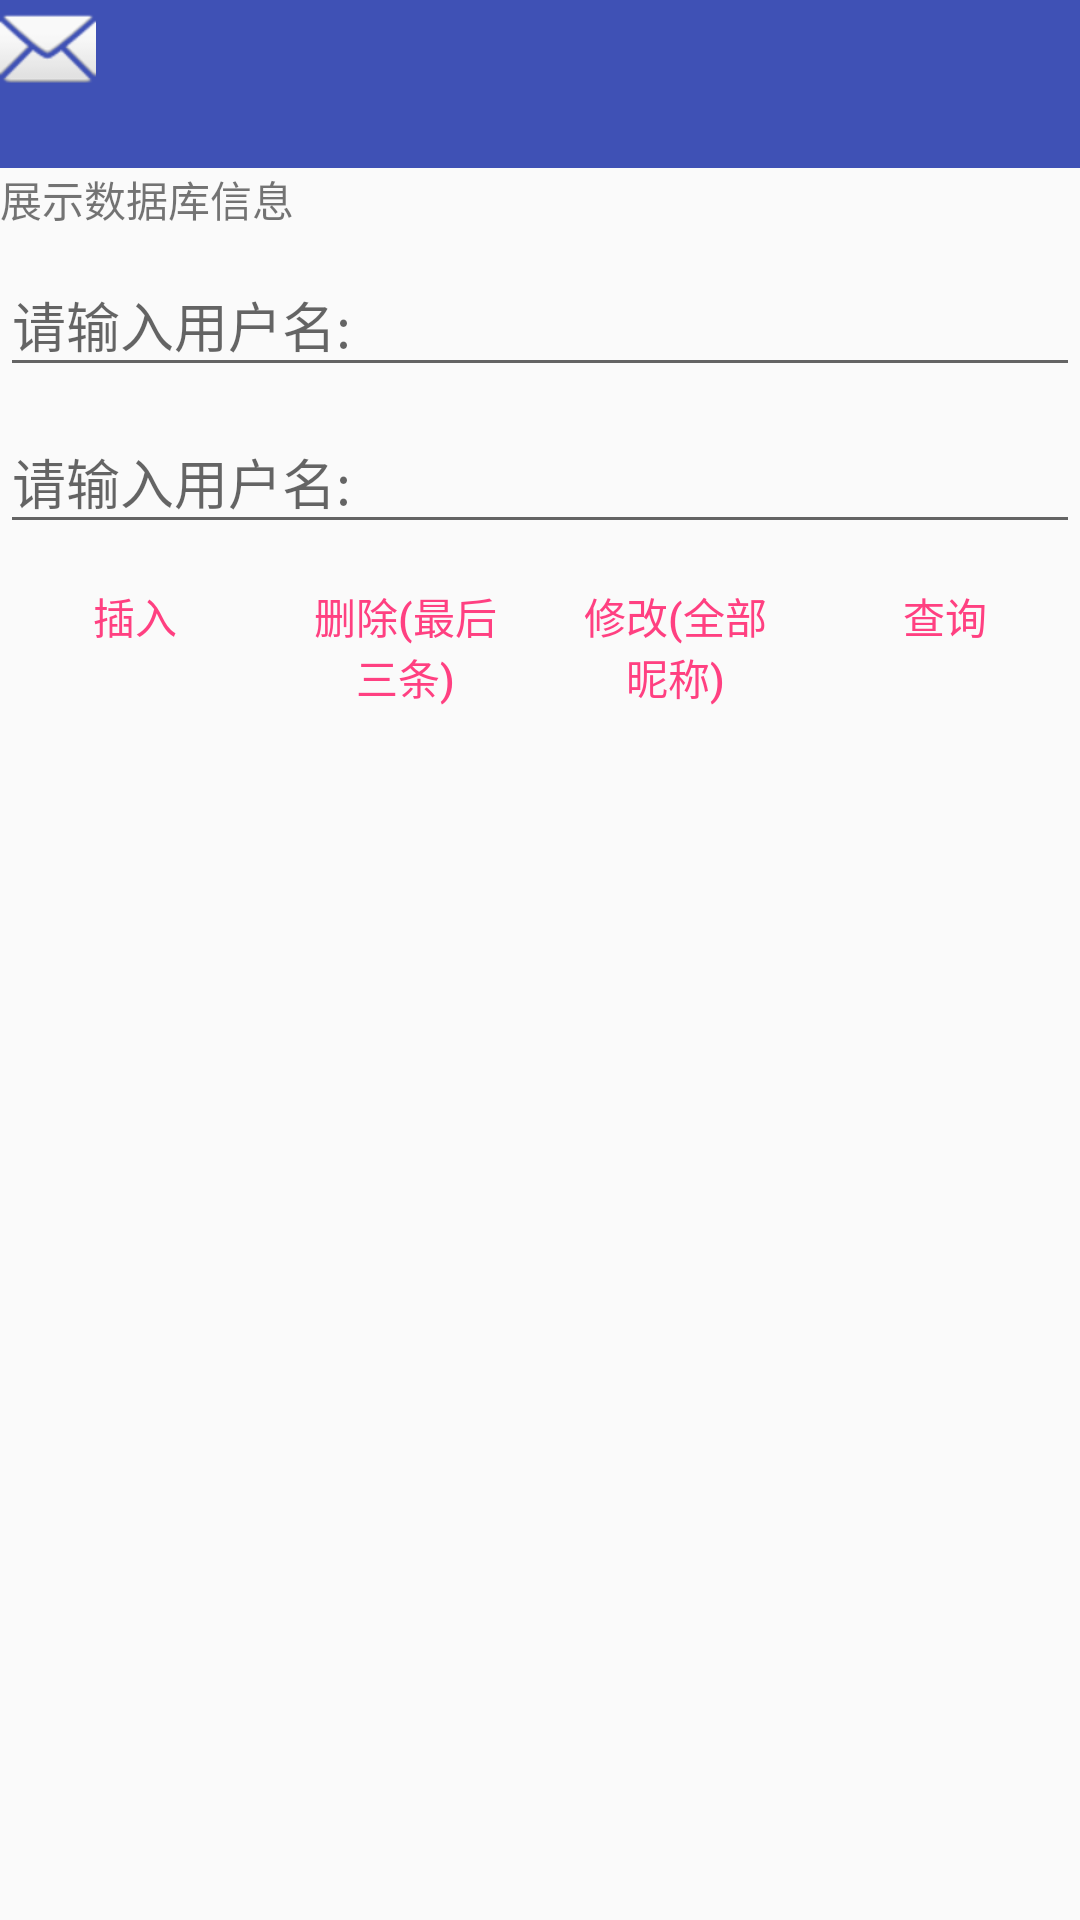

Locate icon controls on the screen. Image size 1080 x 1920, boxes as rect(x1, y1, x2, y2).
email: rect(0, 15, 96, 83)
